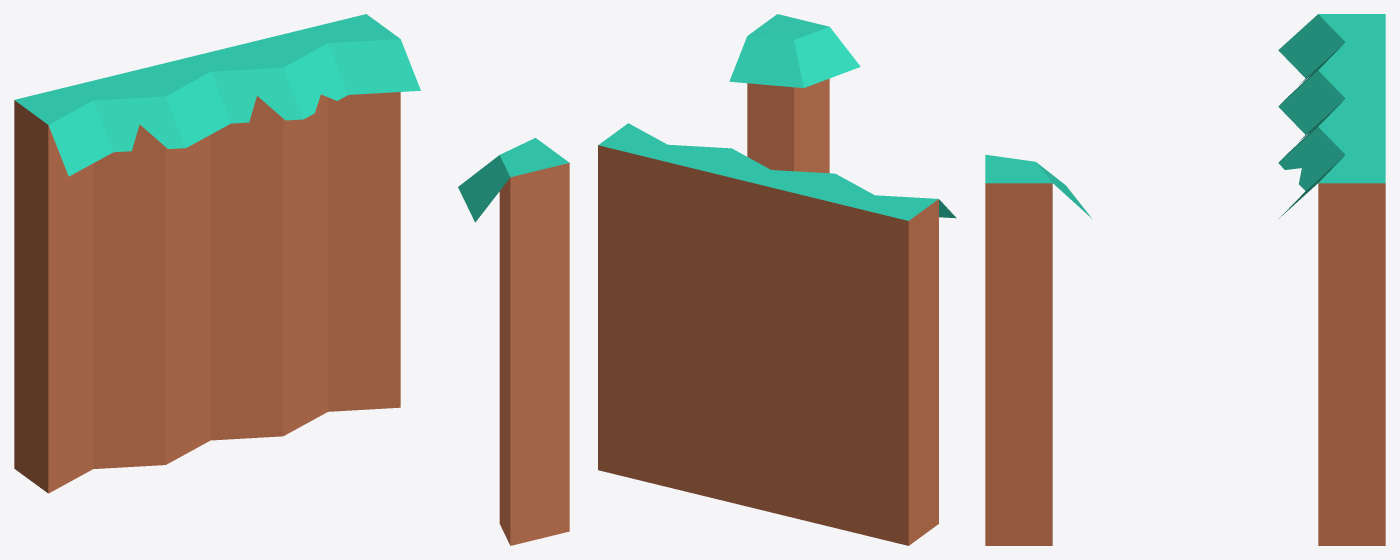
The model's file is hill_side_corner1.obj.
The picture shows the model from 3 angles, left to right: view 1: azimuth 30°, elevation 25°; view 2: azimuth 150°, elevation 25°; view 3: azimuth 270°, elevation 25°; orthographic projection. The views are drawn at different scales.
Parts seen in each view (by area): view 1: cliff_top_rock, cliff_cornerTop_rock; view 2: cliff_top_rock, cliff_cornerTop_rock; view 3: cliff_top_rock, cliff_cornerTop_rock.
Boxes of the visible parts, <box> form: cliff_top_rock: <box>14,14,420,493</box>; cliff_cornerTop_rock: <box>458,138,569,545</box>; cliff_top_rock: <box>598,123,956,545</box>; cliff_cornerTop_rock: <box>729,14,860,173</box>; cliff_top_rock: <box>1278,14,1385,545</box>; cliff_cornerTop_rock: <box>985,154,1091,545</box>.
Bounding box in the file's own units: 1 × 1 × 1.
